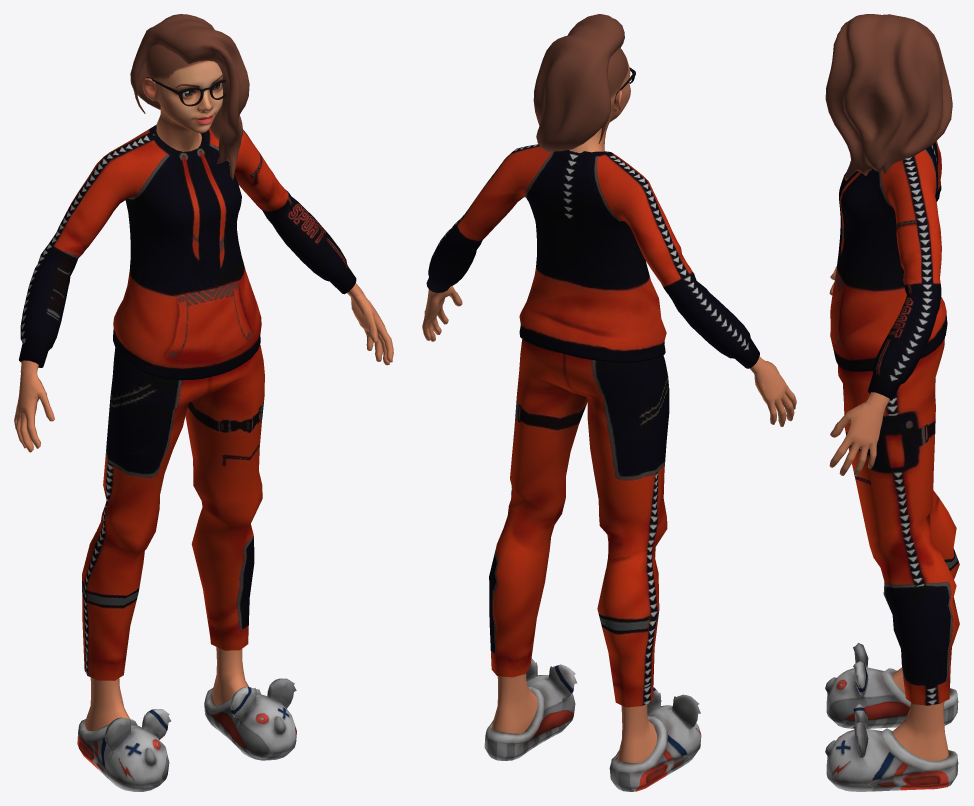
Rendered from Char_Combined.glb.
The picture shows the model from 3 angles, left to right: view 1: azimuth 30°, elevation 25°; view 2: azimuth 150°, elevation 25°; view 3: azimuth 270°, elevation 25°; orthographic projection.
Visible parts, largest first — view 1: model4EyeLeft; view 2: model4EyeLeft; view 3: model4EyeLeft.
Boxes of the visible parts, left/top/right/bottom form: model4EyeLeft: left=14, top=14, right=393, bottom=791; model4EyeLeft: left=422, top=14, right=796, bottom=791; model4EyeLeft: left=825, top=14, right=959, bottom=791.
Size of the model in its own units: 9.28 by 17.69 by 2.95.
Materials: 9 (9 with a texture image).
